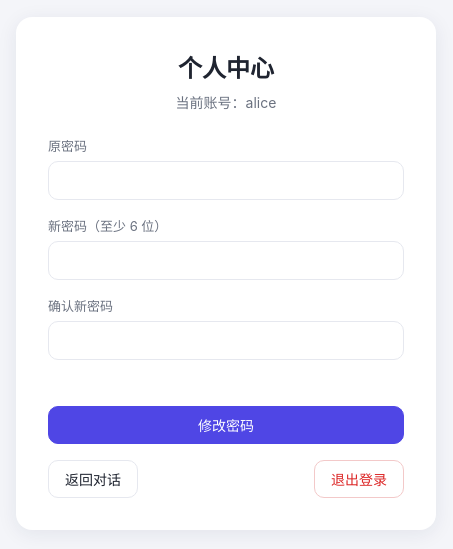
Scenario: ProfilePage › 两次新密码不一致时本地拦截
In the password field labelled "原密码": coordinates (226, 180) left=48, top=160, right=404, bottom=200, type "old123"
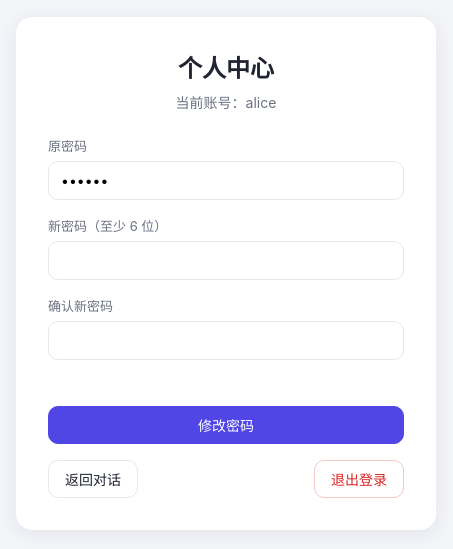
In the password field labelled "新密码（至少 6 位）": coordinates (226, 260) left=48, top=240, right=404, bottom=280, type "abc123"
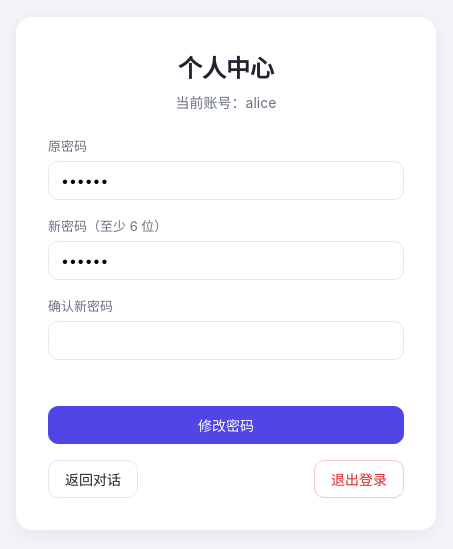
In the password field labelled "确认新密码": coordinates (226, 340) left=48, top=320, right=404, bottom=360, type "abc124"
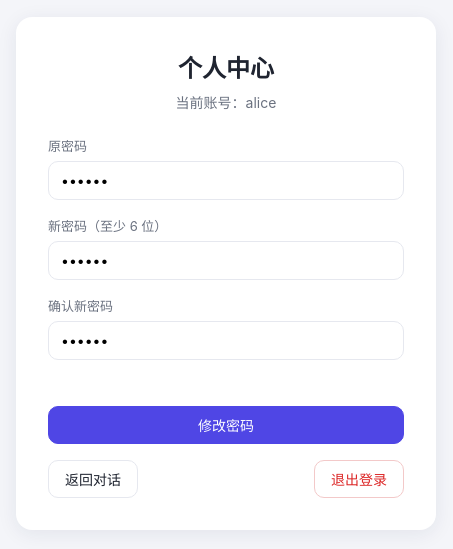
Submit the form, box left=48, top=136, right=404, bottom=444
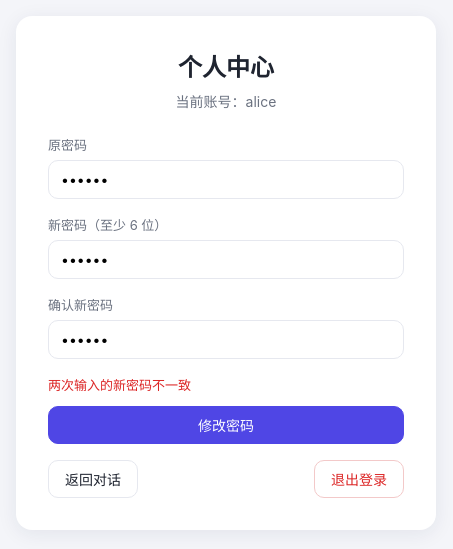
Now the text "两次输入的新密码不一致" is shown, box left=48, top=377, right=191, bottom=393
